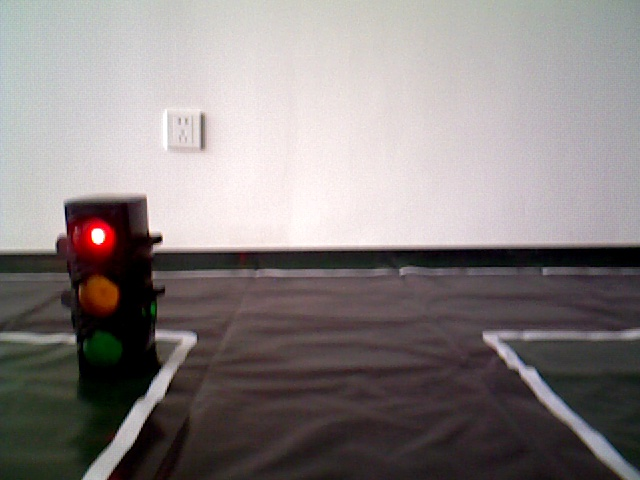red: (65, 205, 156, 384)
